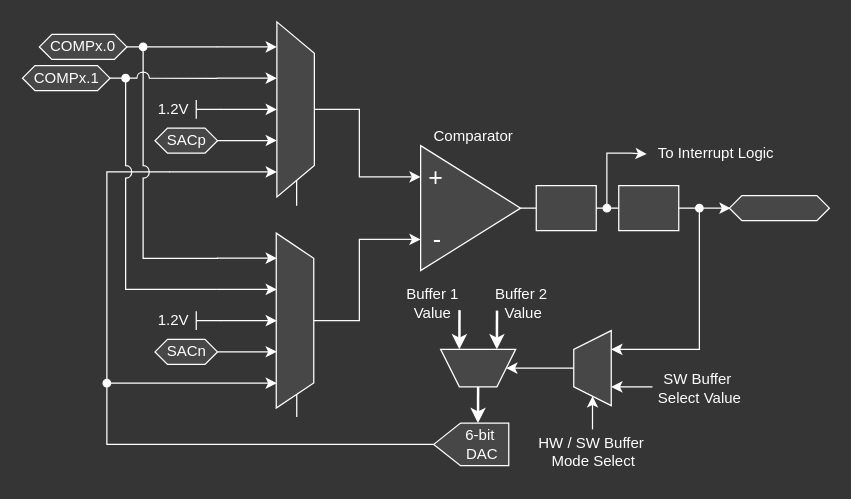
Some shapes in this 851 by 499 pixel diagram are drawn without their labels. The box of each missing label's shape, as (x1, y1, x2, y2) in pixels:
COMPxOut: (728, 194, 829, 221)
Filter (Optional): (535, 184, 596, 231)
Inverter (Optional): (618, 184, 679, 231)
